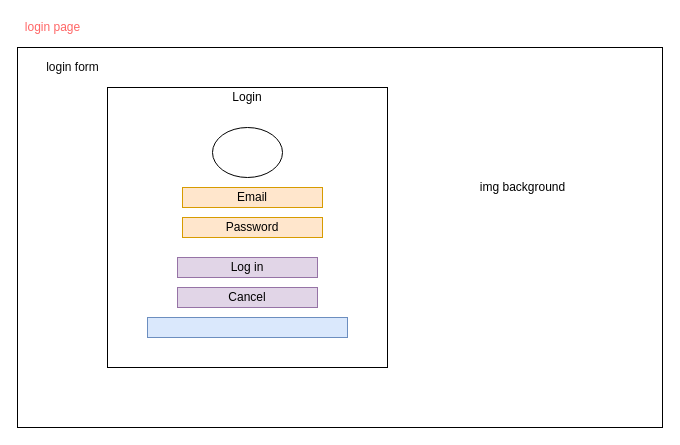
The diagram is 680 pixels wide and 445 high, and some of its shapes have lost their labels. Here are the shapes that lost their labels. From the top down, the centre of each, then its label:
At pixel 247 152: "logo".
At pixel 247 327: "You don't have an account? Sign up".
